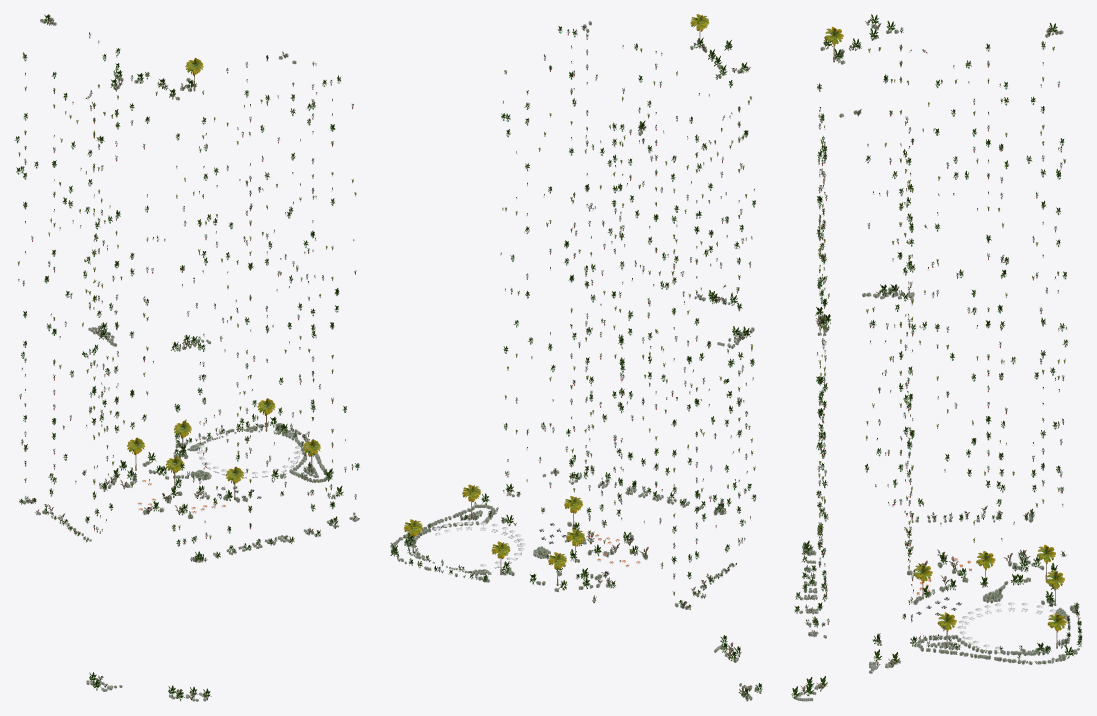
Rendered from Soel_mini_plants.glb.
3 views of the same model, side by side, from view 1: azimuth 30°, elevation 25°; view 2: azimuth 150°, elevation 25°; view 3: azimuth 270°, elevation 25° (orthographic). The views are drawn at different scales.
Visible parts, largest first — view 1: plant_build; view 2: plant_build; view 3: plant_build.
Boxes of the visible parts, x1,y1,x2,y2 form: plant_build: (14,14,359,701); plant_build: (390,14,762,701); plant_build: (791,14,1082,701).
Size of the model in its own units: 58.75 by 123 by 48.26.
13 materials, 12 textured.
